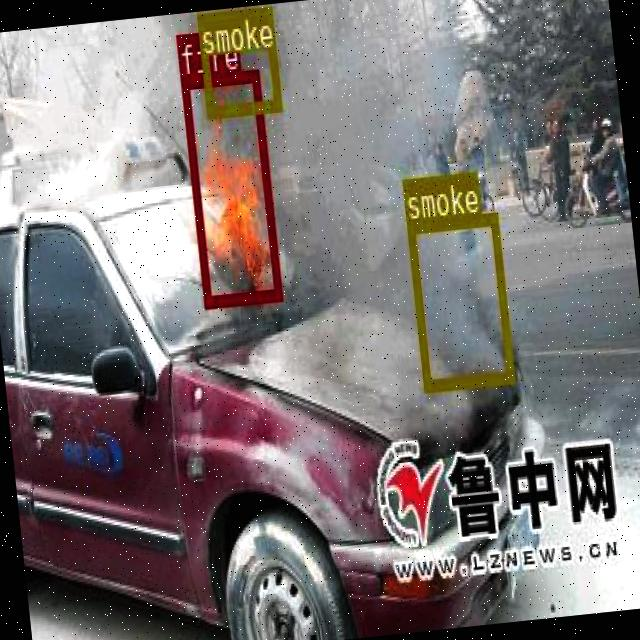fire: (179, 66, 281, 305)
smoke: (406, 211, 513, 391), (196, 5, 280, 114)
